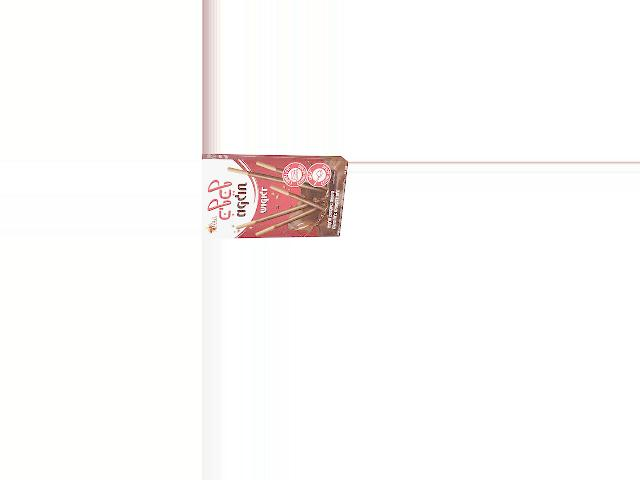chocolate: (202, 155, 338, 239)
